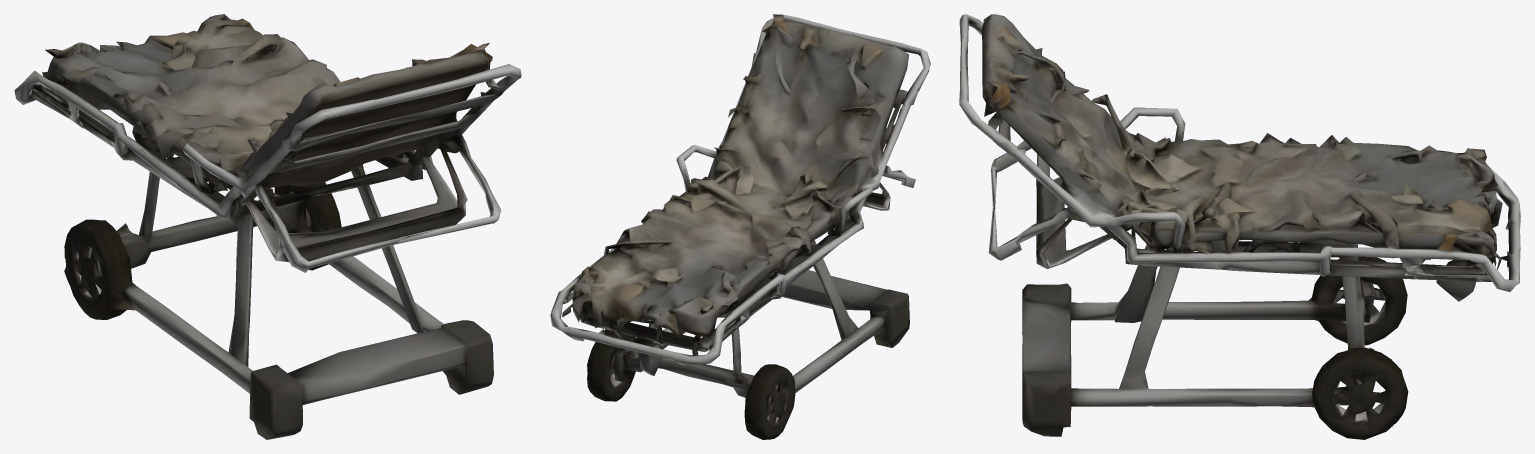
Rendered from gurney.glb.
3 renders of one model, left to right at view 1: azimuth 30°, elevation 25°; view 2: azimuth 150°, elevation 25°; view 3: azimuth 270°, elevation 25°, orthographic. The views are drawn at different scales.
Parts seen in each view (by area): view 1: tripo_node_dbac4f3e-88a1-4601-af4d-f412809a8aee; view 2: tripo_node_dbac4f3e-88a1-4601-af4d-f412809a8aee; view 3: tripo_node_dbac4f3e-88a1-4601-af4d-f412809a8aee.
Part boxes in pixels (bbox=[...]): tripo_node_dbac4f3e-88a1-4601-af4d-f412809a8aee: bbox=[14, 14, 521, 439]; tripo_node_dbac4f3e-88a1-4601-af4d-f412809a8aee: bbox=[550, 14, 930, 439]; tripo_node_dbac4f3e-88a1-4601-af4d-f412809a8aee: bbox=[959, 14, 1520, 439].
Size of the model in its own units: 0.4607 by 0.6756 by 1.
Materials: 1 (1 with a texture image).
